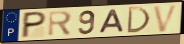9: (78, 10, 96, 35)
A: (98, 8, 126, 34)
D: (126, 6, 152, 34)
P: (19, 10, 49, 39)
R: (47, 10, 74, 38)
V: (152, 3, 180, 33)
